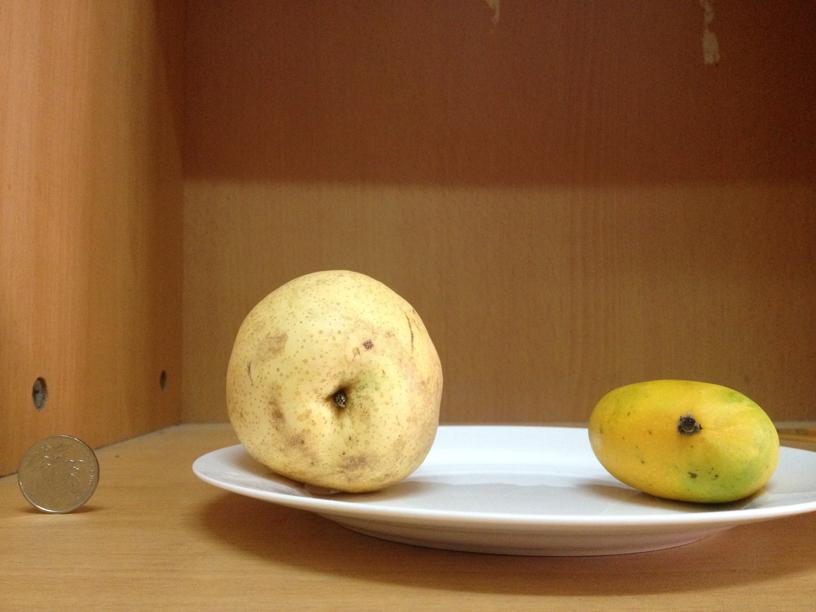coin: (19, 434, 100, 516)
mango: (588, 379, 778, 501)
pear: (229, 265, 445, 490)
